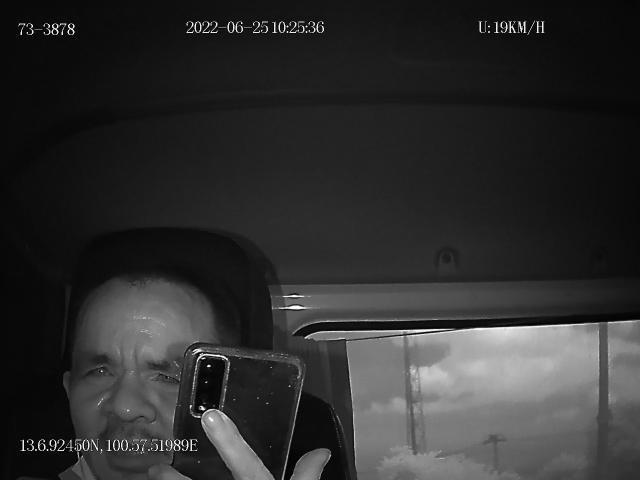PhoneUse: (170, 340, 306, 480)
SafeDriving: (76, 352, 122, 386), (140, 360, 183, 389)
